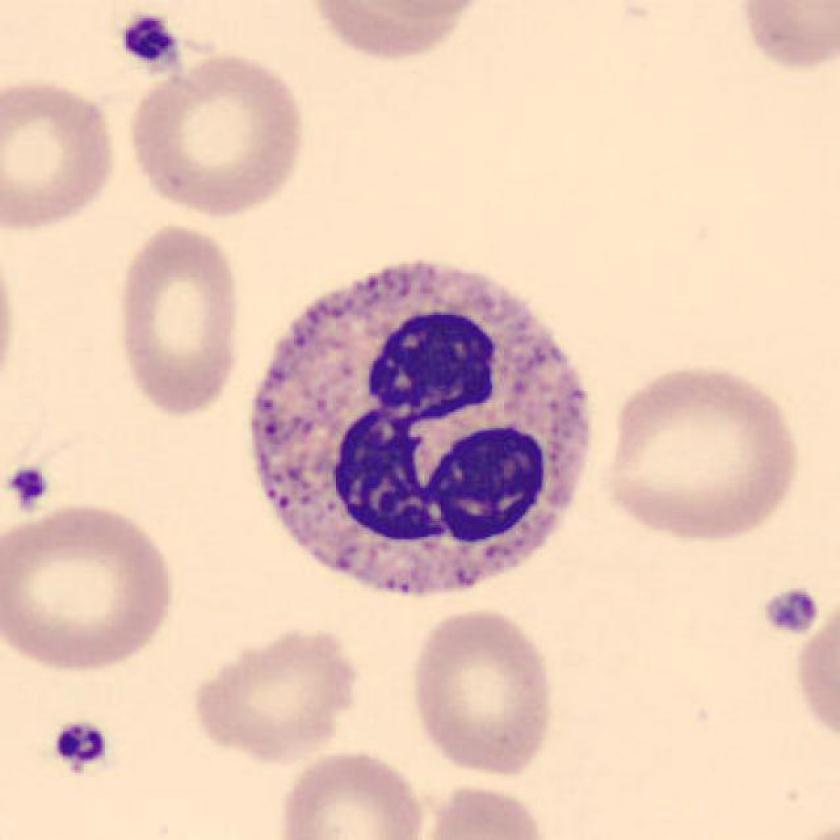neutrophil: (249, 265, 588, 594)
